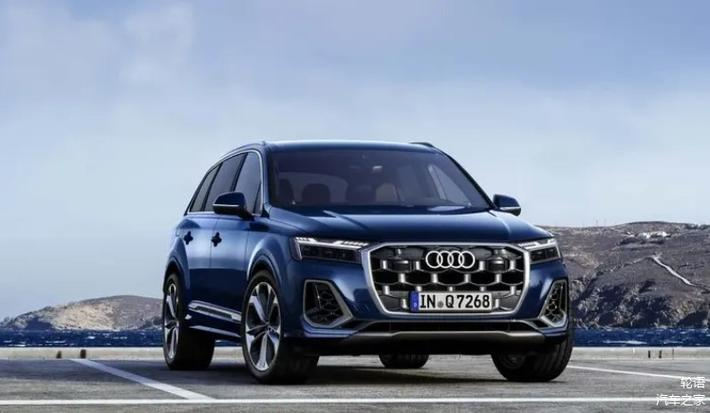汽车: (154, 138, 577, 388)
